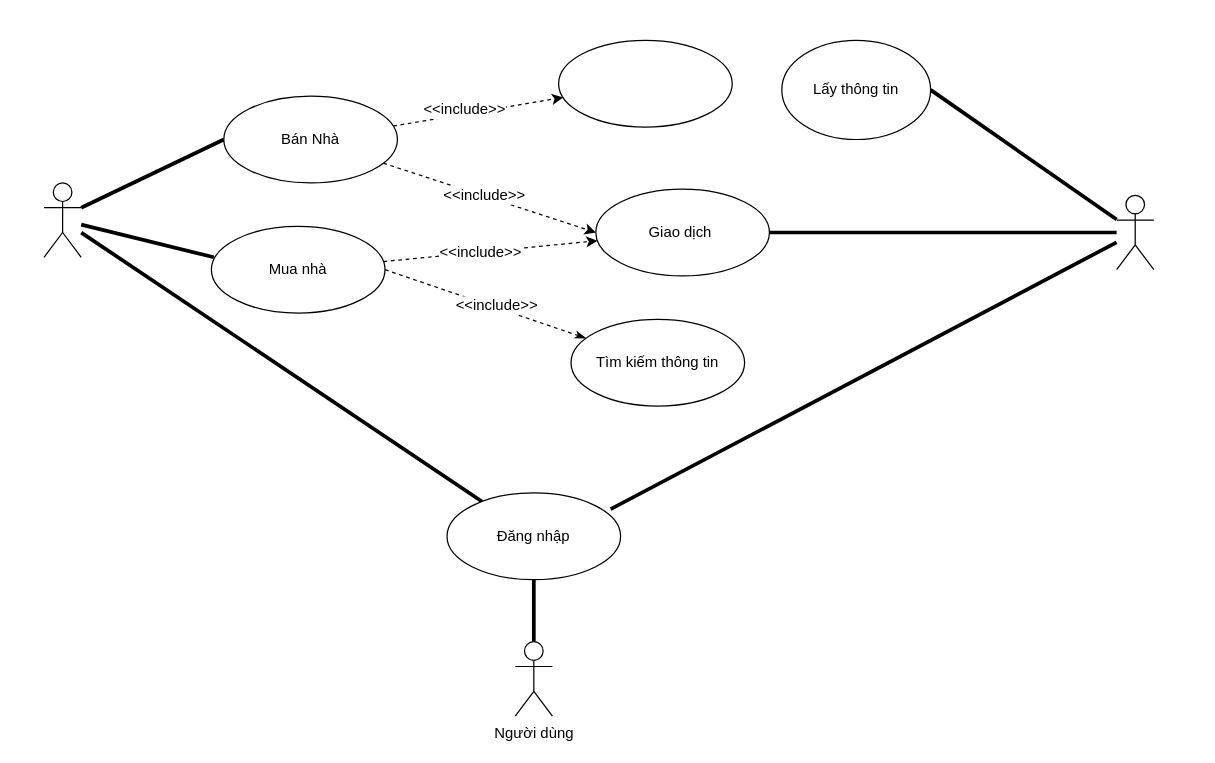
The diagram is 1215 pixels wide and 763 high, and some of its shapes have lost their labels. The centre of each missing label's shape, as x and y in pixels:
"Cung cấp thông tin" belongs at point 644,83.
"Khách Hàng" belongs at point 62,219.
"Nhân viên công ty" belongs at point 1134,232.
